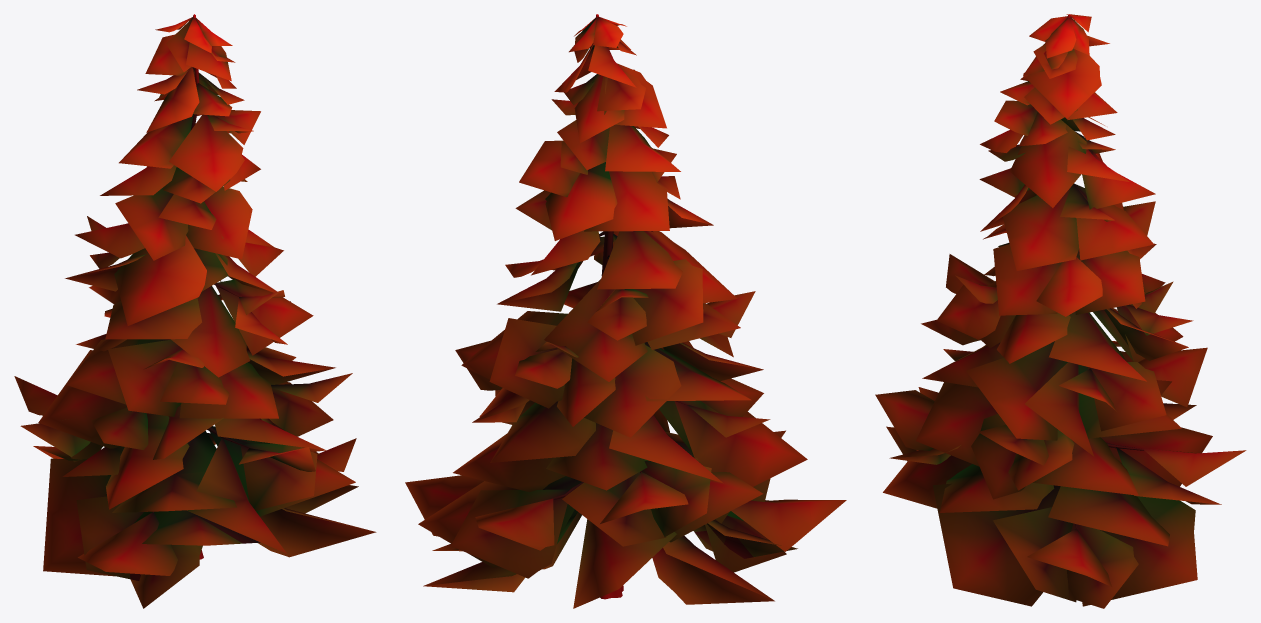
The model's file is SpruceTree_C.fbx.
3 renders of one model, left to right at view 1: azimuth 30°, elevation 25°; view 2: azimuth 150°, elevation 25°; view 3: azimuth 270°, elevation 25°, orthographic. The views are drawn at different scales.
Parts seen in each view (by area): view 1: STC_Leaves_LOD0; view 2: STC_Leaves_LOD0, STC_Bark_LOD0; view 3: STC_Leaves_LOD0.
Part boxes in pixels (left/top/right/bottom): STC_Leaves_LOD0: left=14, top=17, right=376, bottom=608; STC_Leaves_LOD0: left=405, top=17, right=846, bottom=608; STC_Bark_LOD0: left=542, top=14, right=688, bottom=599; STC_Leaves_LOD0: left=875, top=14, right=1246, bottom=608.
Size of what is drawn, in the model's own units: 11.87 by 18.86 by 11.4.
